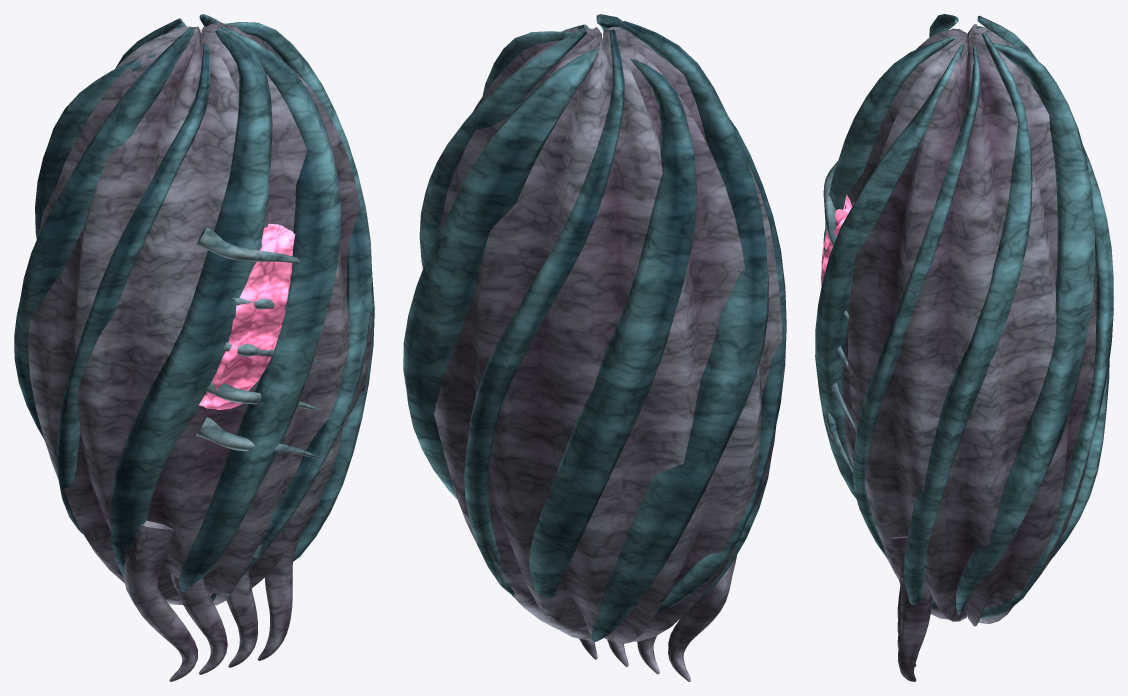
Rendered from abyssal-egg.glb.
3 views of the same model, side by side, from view 1: azimuth 30°, elevation 25°; view 2: azimuth 150°, elevation 25°; view 3: azimuth 270°, elevation 25° (orthographic). The views are drawn at different scales.
Parts seen in each view (by area): view 1: abyssal-egg_membrane, abyssal-egg_carapace, abyssal-egg_signal, abyssal-egg_rib; view 2: abyssal-egg_membrane, abyssal-egg_carapace; view 3: abyssal-egg_membrane, abyssal-egg_carapace, abyssal-egg_rib, abyssal-egg_signal.
Boxes of the visible parts, left/top/right/bottom form: abyssal-egg_membrane: left=28, top=22, right=371, bottom=681; abyssal-egg_carapace: left=14, top=14, right=374, bottom=600; abyssal-egg_signal: left=199, top=223, right=295, bottom=409; abyssal-egg_rib: left=195, top=227, right=321, bottom=557; abyssal-egg_membrane: left=434, top=27, right=781, bottom=681; abyssal-egg_carapace: left=403, top=14, right=786, bottom=641; abyssal-egg_membrane: left=842, top=24, right=1096, bottom=681; abyssal-egg_carapace: left=815, top=14, right=1113, bottom=618; abyssal-egg_rib: left=823, top=161, right=1016, bottom=595; abyssal-egg_signal: left=821, top=194, right=854, bottom=286.
Size of the model in its own units: 1.48 by 2.67 by 1.12.
Materials: 4 (4 with a texture image).
